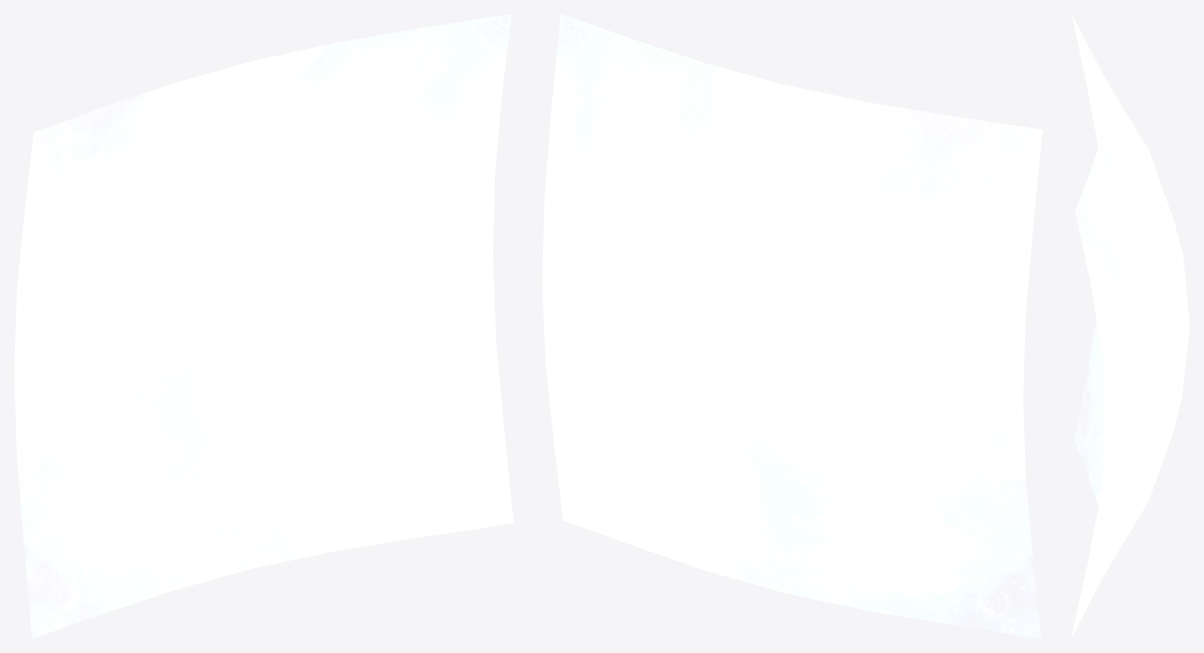
Rendered from bg_solarian8_3db.gltf.
3 views of the same model, side by side, from view 1: azimuth 30°, elevation 25°; view 2: azimuth 150°, elevation 25°; view 3: azimuth 270°, elevation 25° (orthographic). The views are drawn at different scales.
Visible parts, largest first — view 1: bg_solarian8.3db; view 2: bg_solarian8.3db; view 3: bg_solarian8.3db.
Part boxes in pixels (x1,y1,x2,y2): bg_solarian8.3db: (14,14,513,638); bg_solarian8.3db: (542,14,1042,638); bg_solarian8.3db: (1071,15,1189,637).
Size of the model in its own units: 73.75 by 74.6 by 18.8.
Materials: 4 (4 with a texture image).
